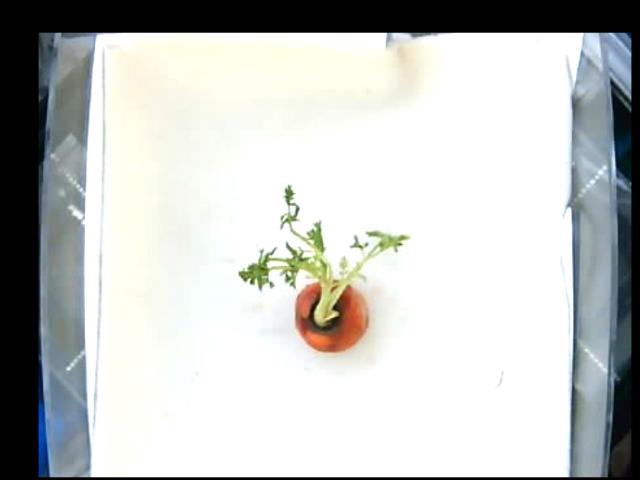Carrot: (237, 181, 413, 353)
